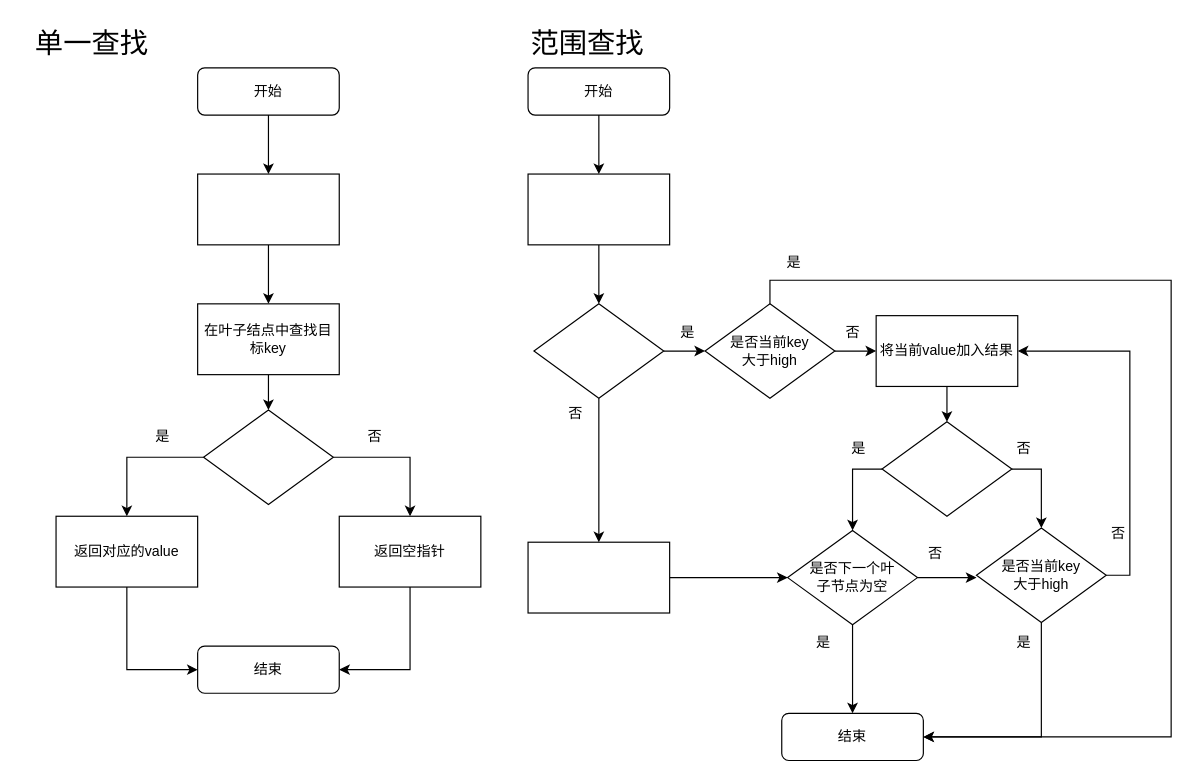
Image size: 1201x781. Some labels were removed from this diagram. The centre of each missing label's shape, as x and y in pixels:
当前叶子节点 无key符合: pixel 598 577
是否下一个key为空: pixel 946 468
是否找到目标key: pixel 267 456
是否能在叶子节 点找到key>=low: pixel 598 350
查找low的关键字,只到叶子结点: pixel 598 209
查找关键字直到叶子结点: pixel 267 209
